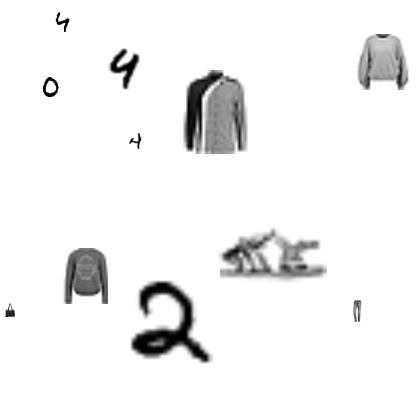0: (36, 73, 64, 101)
2: (108, 266, 220, 378)
4: (95, 37, 151, 93), (48, 7, 76, 35), (125, 130, 147, 152)
Bag: (3, 303, 17, 317)
Pullover: (354, 34, 410, 90), (58, 248, 114, 304)
Sandal: (215, 197, 327, 309)
Shirt: (172, 70, 256, 154)
Trouser: (346, 300, 368, 322)
